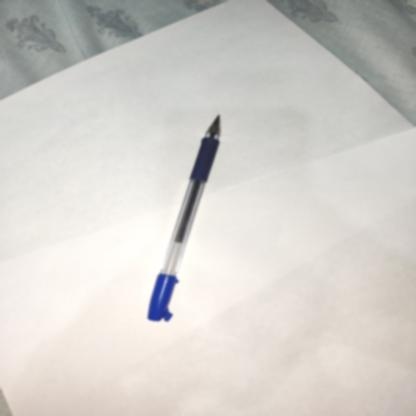Pen: (101, 107, 230, 334)
